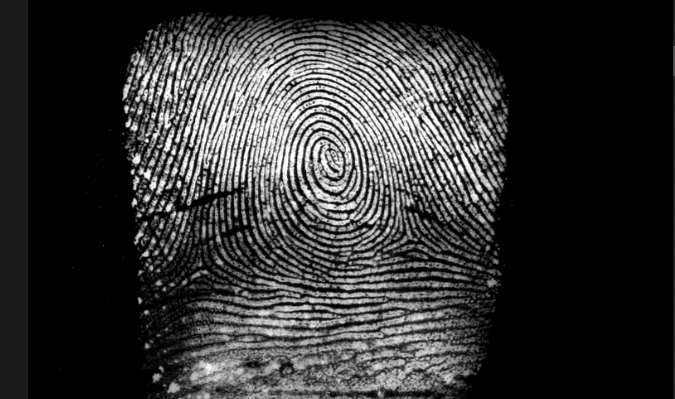nucelo: (311, 139, 345, 182)
verticilo: (395, 221, 424, 250), (183, 253, 214, 278)
